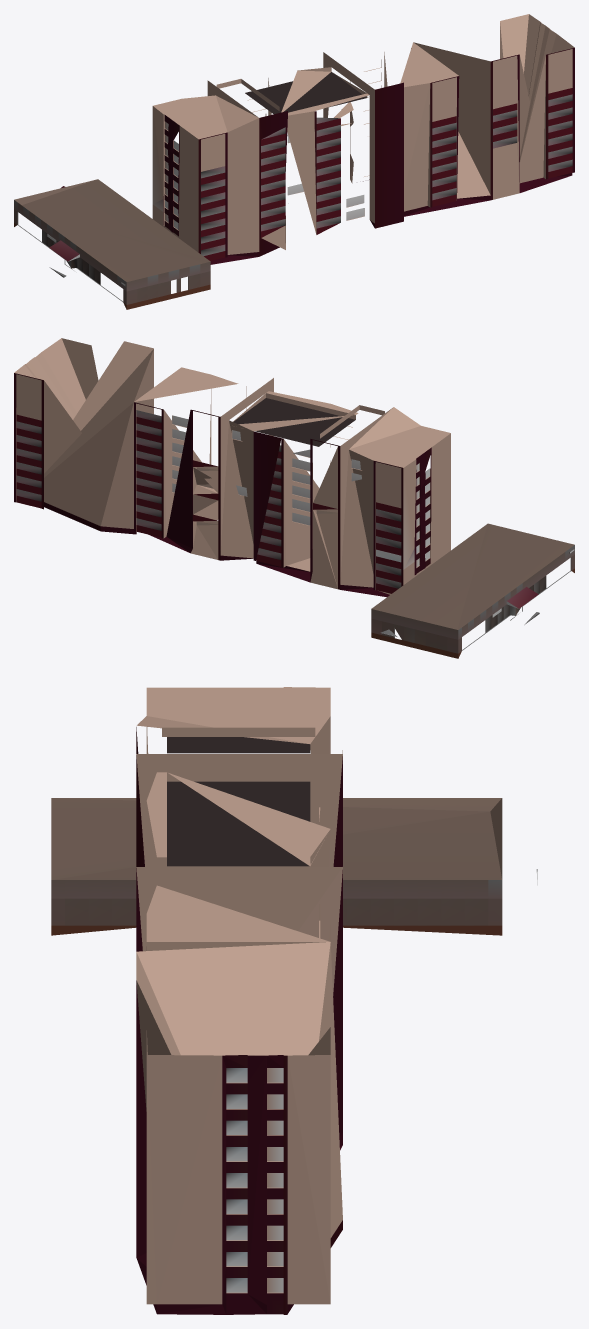
File: sf_shop_3_lod.glb
3 renders of one model, top to bottom at view 1: azimuth 30°, elevation 25°; view 2: azimuth 150°, elevation 25°; view 3: azimuth 270°, elevation 25°, orthographic. The views are drawn at different scales.
Visible parts, largest first — view 1: Object_5; view 2: Object_5; view 3: Object_5.
Boxes of the visible parts, x1,y1,x2,y2 form: Object_5: (14,14,574,309); Object_5: (14,338,574,658); Object_5: (51,687,537,1314).
Size of the model in its own units: 25.43 by 6.93 by 10.99.
